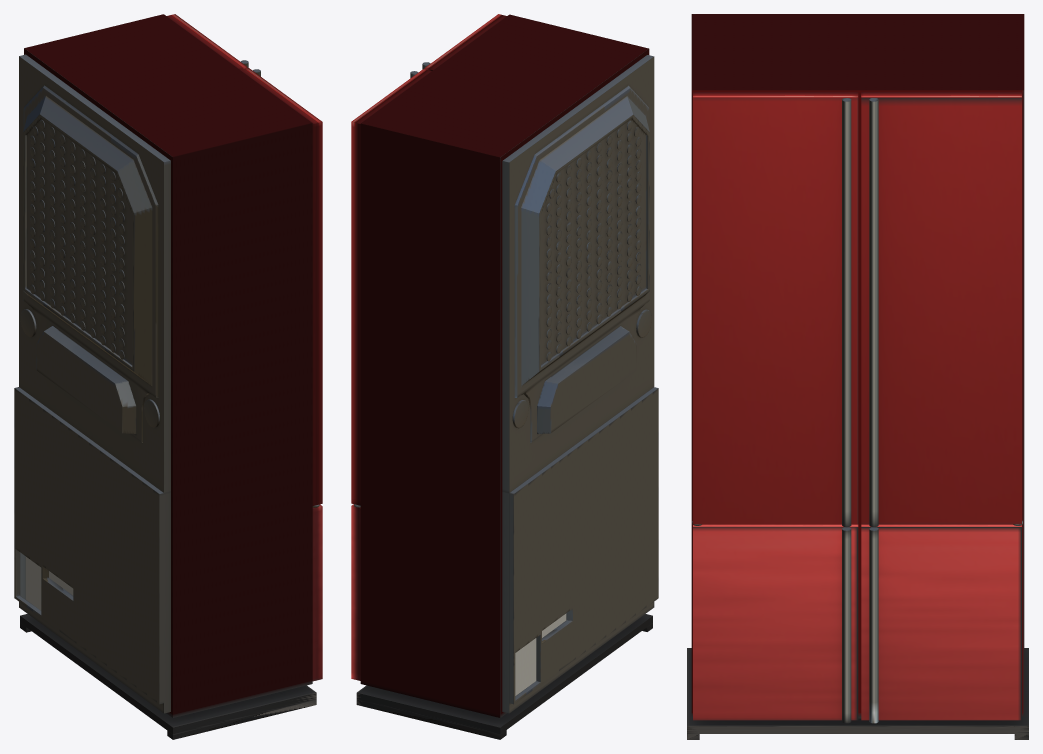
Rendered from fridge_red.glb.
3 renders of one model, left to right at view 1: azimuth 30°, elevation 25°; view 2: azimuth 150°, elevation 25°; view 3: azimuth 270°, elevation 25°, orthographic. The views are drawn at different scales.
Visible parts, largest first — view 1: back_body, back_body5, back_body7, base, back_body1, back_body2, back_body3; view 2: back_body, back_body5, back_body7, base, back_body3, back_body4, back_body1; view 3: back_body1, back_body3, back_body, back_body2, back_body4, base, pCylinder1, pCylinder3, pCylinder2, pCylinder4.
Boxes of the visible parts, x1,y1,x2,y2 form: back_body: (24,14,312,717); back_body5: (14,54,170,713); back_body7: (23,85,158,442); base: (20,614,316,739); back_body1: (240,67,322,505); back_body2: (312,504,322,681); back_body3: (167,14,247,69); back_body: (360,14,649,717); back_body5: (502,55,658,713); back_body7: (514,85,649,442); base: (356,614,652,739); back_body3: (351,69,431,505); back_body4: (351,504,360,680); back_body1: (424,14,506,70); back_body1: (693,92,858,524); back_body3: (861,92,1021,524); back_body: (691,14,1024,716); back_body2: (693,524,858,720); back_body4: (861,524,1021,720); base: (687,648,1028,739); pCylinder1: (842,98,851,527); pCylinder3: (869,98,878,527); pCylinder2: (842,527,851,723); pCylinder4: (869,527,878,723).
Bounding box in the file's own units: 1.84 × 5.76 × 2.75.
Materials: 1 (1 with a texture image).
